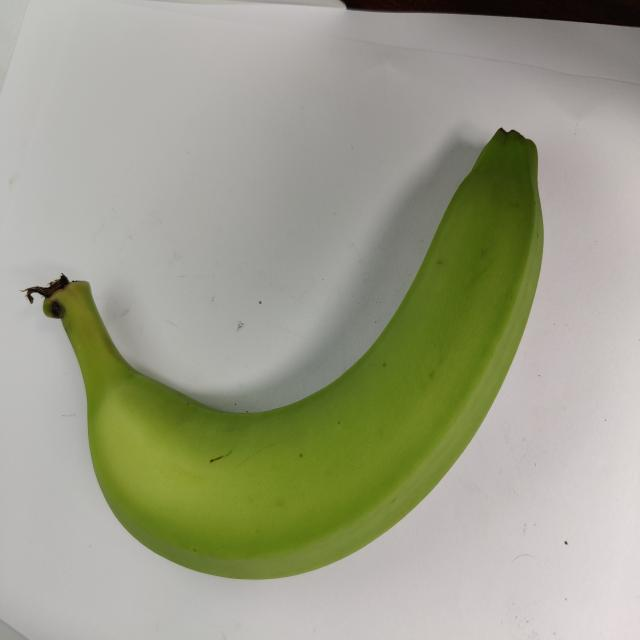raw: (35, 85, 558, 608)
